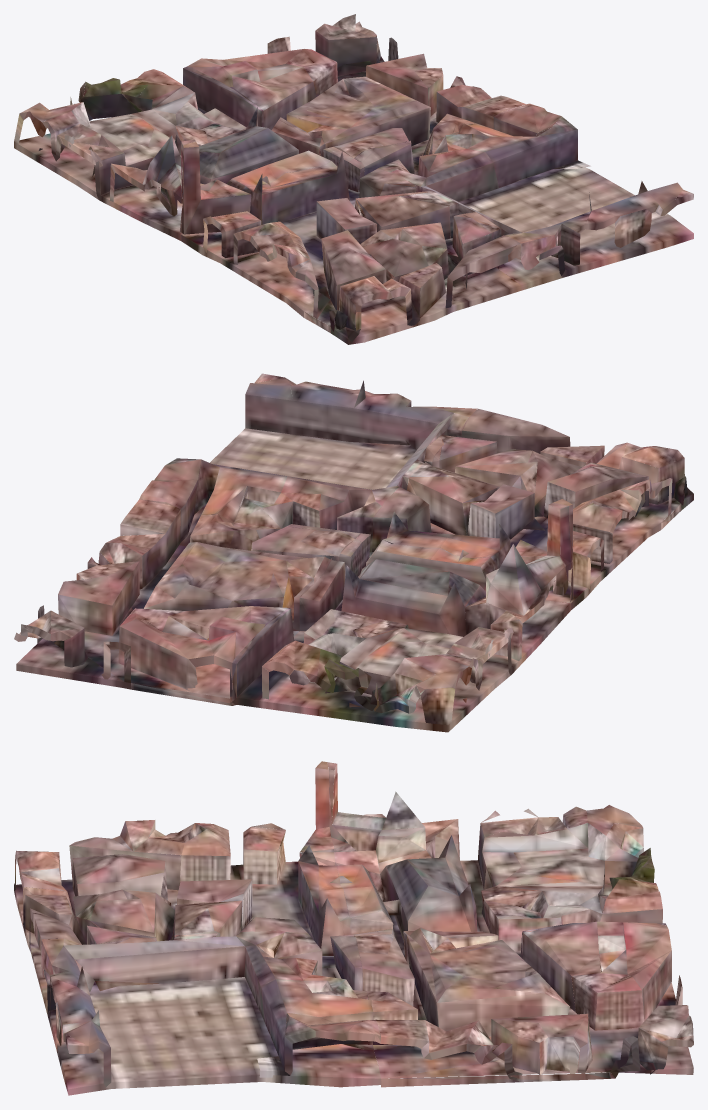
3 renders of one model, top to bottom at view 1: azimuth 30°, elevation 25°; view 2: azimuth 150°, elevation 25°; view 3: azimuth 270°, elevation 25°, orthographic. The views are drawn at different scales.
Visible parts, largest first — view 1: Mesh_0; view 2: Mesh_0; view 3: Mesh_0.
Part boxes in pixels (<box>): Mesh_0: <box>14,14,693,344</box>; Mesh_0: <box>14,373,693,732</box>; Mesh_0: <box>14,761,693,1095</box>.
Size of the model in its own units: 266 by 68.28 by 330.
Materials: 2 (2 with a texture image).
